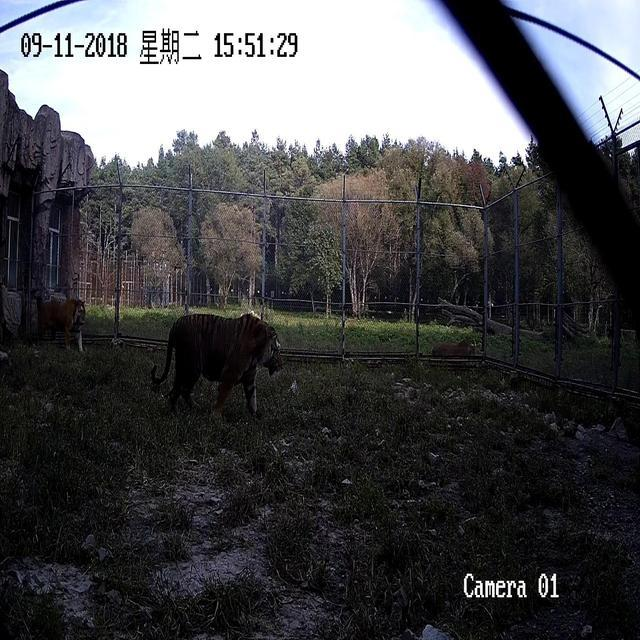tiger: (149, 310, 283, 418), (36, 295, 86, 351), (429, 339, 478, 367)
